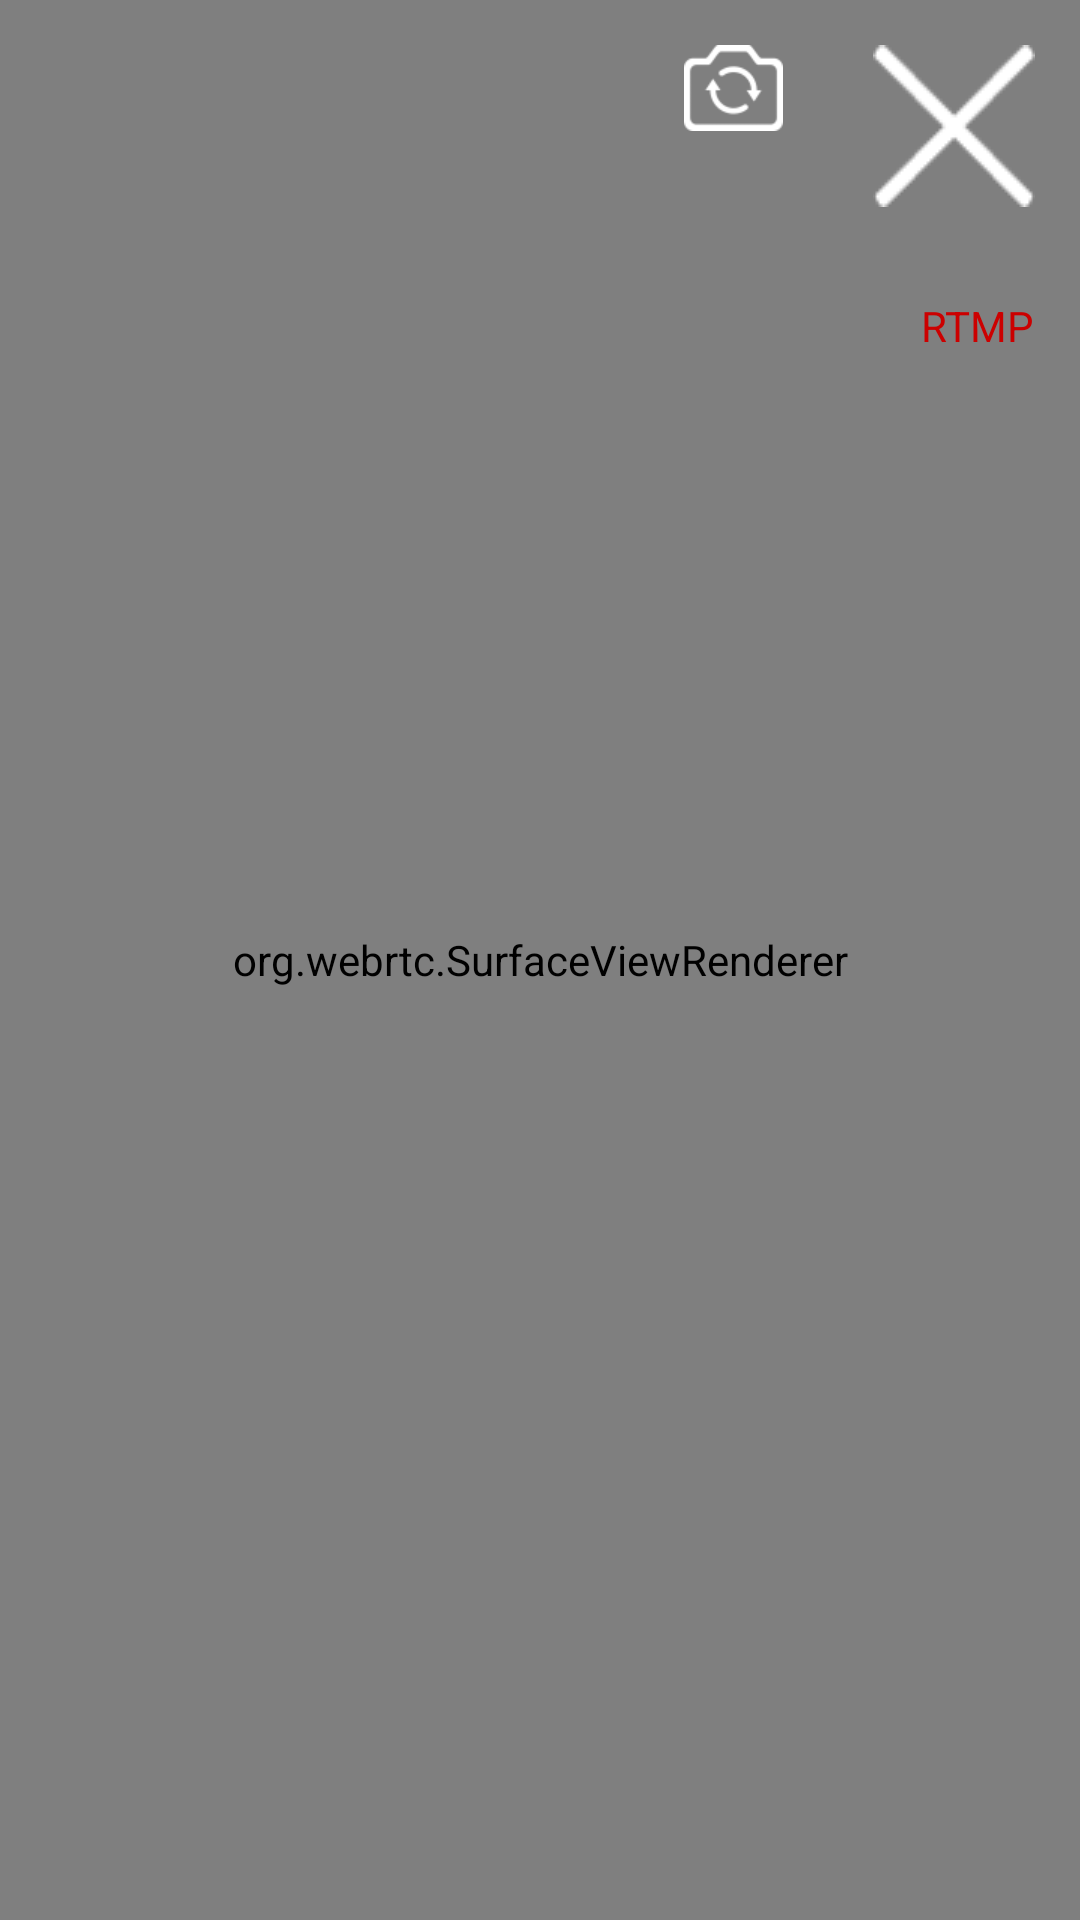

Icon click points for this 1080×1920 phone screenshot, format (x=x, y=y):
close: (x=954, y=126)
switch: (x=733, y=88)
